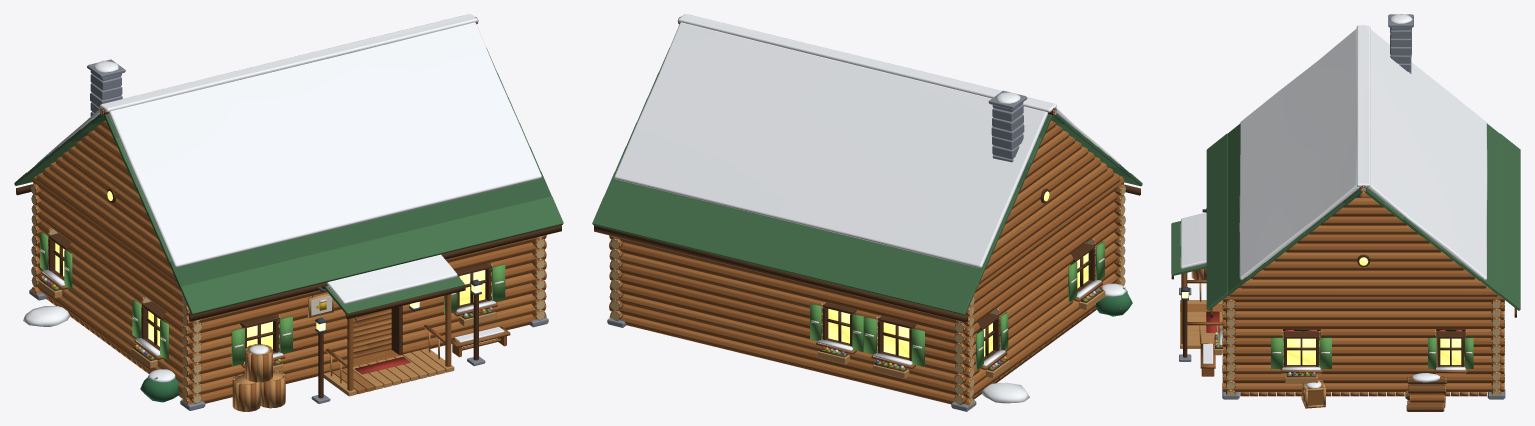
File: tavern.glb
3 views of the same model, side by side, from view 1: azimuth 30°, elevation 25°; view 2: azimuth 150°, elevation 25°; view 3: azimuth 270°, elevation 25° (orthographic). The views are drawn at different scales.
Parts seen in each view (by area): view 1: roof, walls, exterior, floor, walls_low; view 2: roof, walls, exterior; view 3: roof, walls, exterior, floor.
Part boxes in pixels (x1,y1,x2,y2): roof: [14, 14, 563, 321]; walls: [29, 175, 548, 410]; exterior: [23, 279, 510, 411]; floor: [46, 296, 454, 398]; walls_low: [32, 272, 546, 384]; roof: [592, 14, 1142, 322]; walls: [607, 175, 1127, 411]; exterior: [982, 283, 1132, 403]; roof: [1171, 14, 1520, 317]; walls: [1202, 192, 1505, 399]; exterior: [1179, 268, 1446, 411]; floor: [1180, 300, 1487, 396].
Size of the model in its own units: 10.35 by 6.4 by 8.41.
